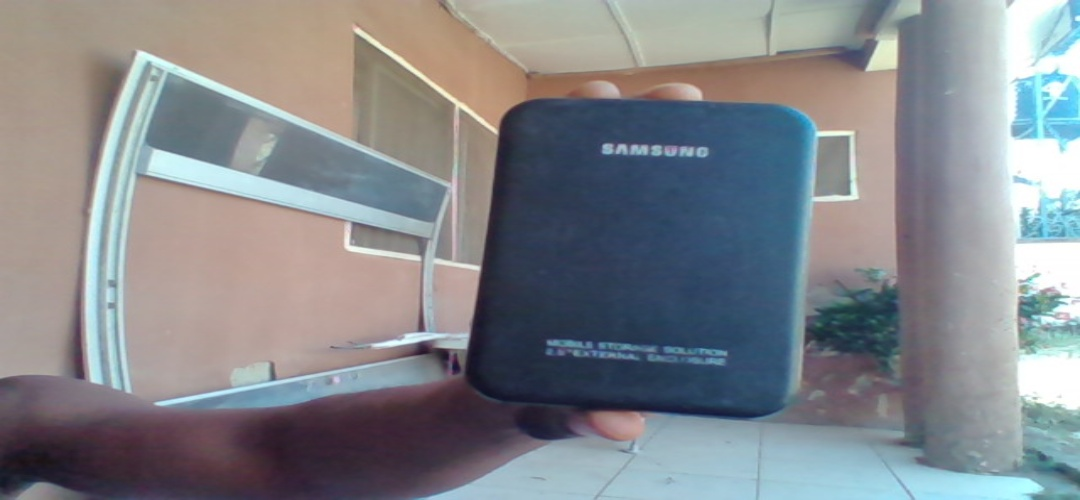hard_disk_case: (484, 95, 802, 414)
